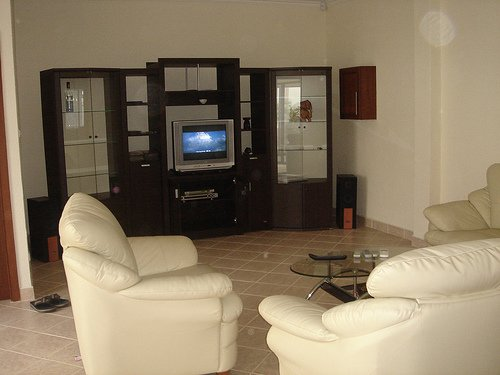chair: (60, 194, 244, 373)
couch: (258, 165, 500, 372), (258, 241, 500, 374)
tv: (172, 122, 236, 172)
